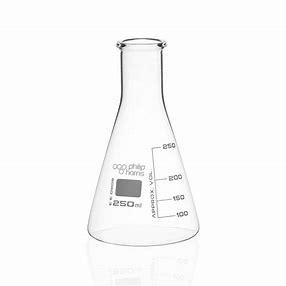Titrarion: (80, 33, 203, 246)
